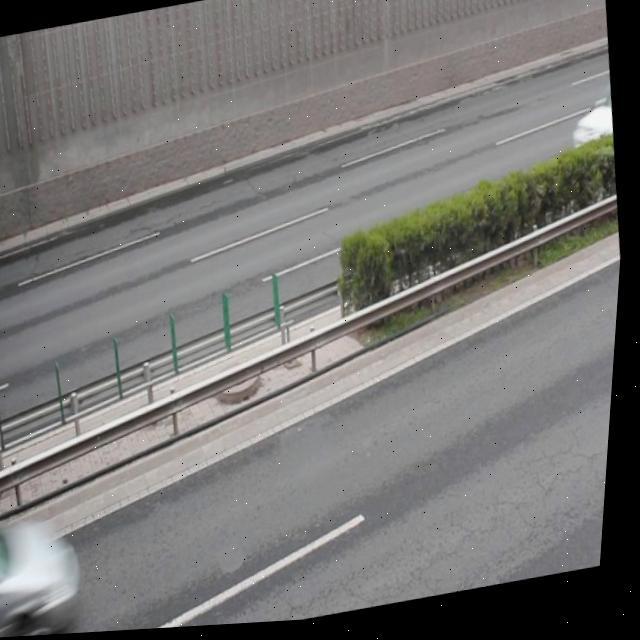car: (565, 81, 622, 181)
truck: (0, 479, 102, 639)
